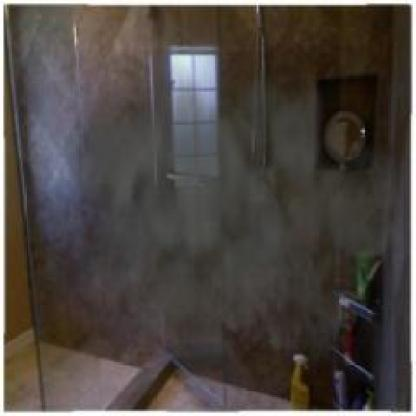Smoke: (55, 51, 397, 393)
